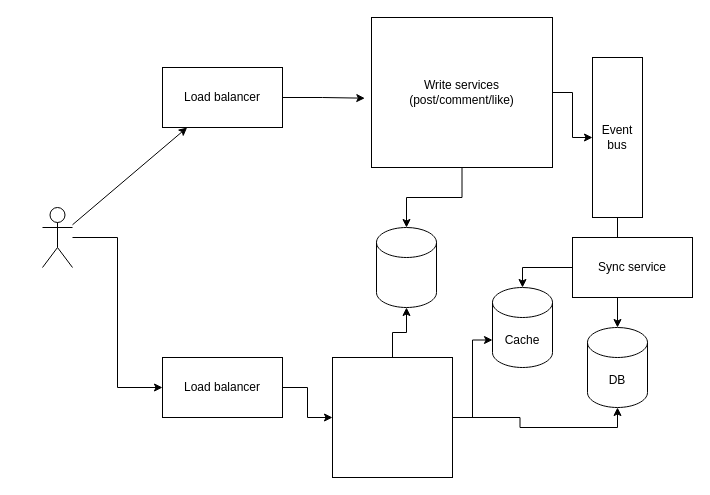
This 710x495 diagram has some shape labels left out. Each missing label, with the box of its shape:
File storage: (376, 226, 436, 308)
Instagram user: (42, 206, 72, 268)
Read services: (332, 356, 452, 478)
